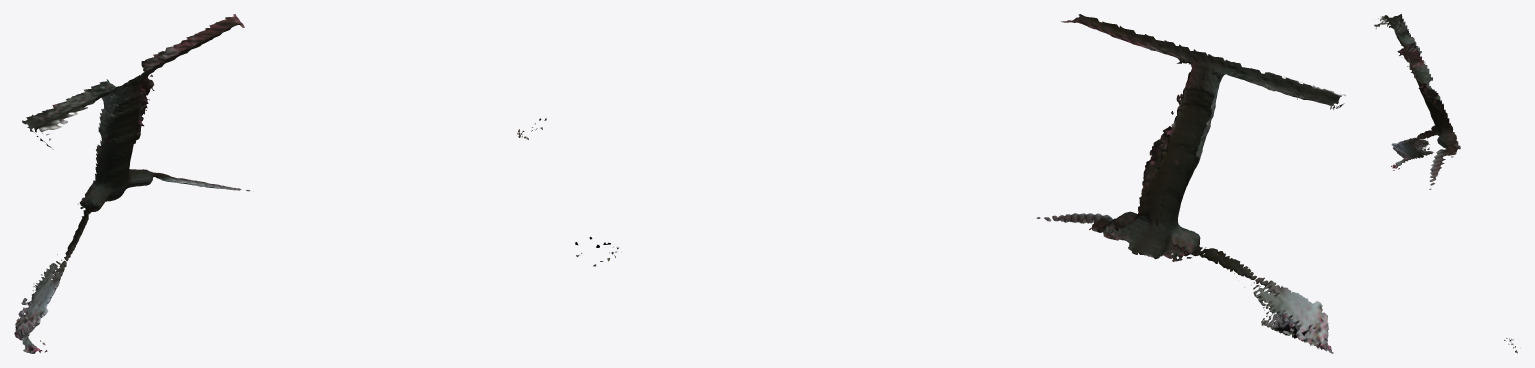
The model's file is table_leg.dae.
The picture shows the model from 3 angles, left to right: view 1: azimuth 30°, elevation 25°; view 2: azimuth 150°, elevation 25°; view 3: azimuth 270°, elevation 25°; orthographic projection. The views are drawn at different scales.
Visible parts, largest first — view 1: node; view 2: node; view 3: node.
Boxes of the visible parts, x1,y1,x2,y2 form: node: (14, 14, 546, 353); node: (575, 14, 1345, 353); node: (1374, 14, 1517, 353).
Bounding box in the file's own units: 1.98 × 0.8297 × 0.625.
